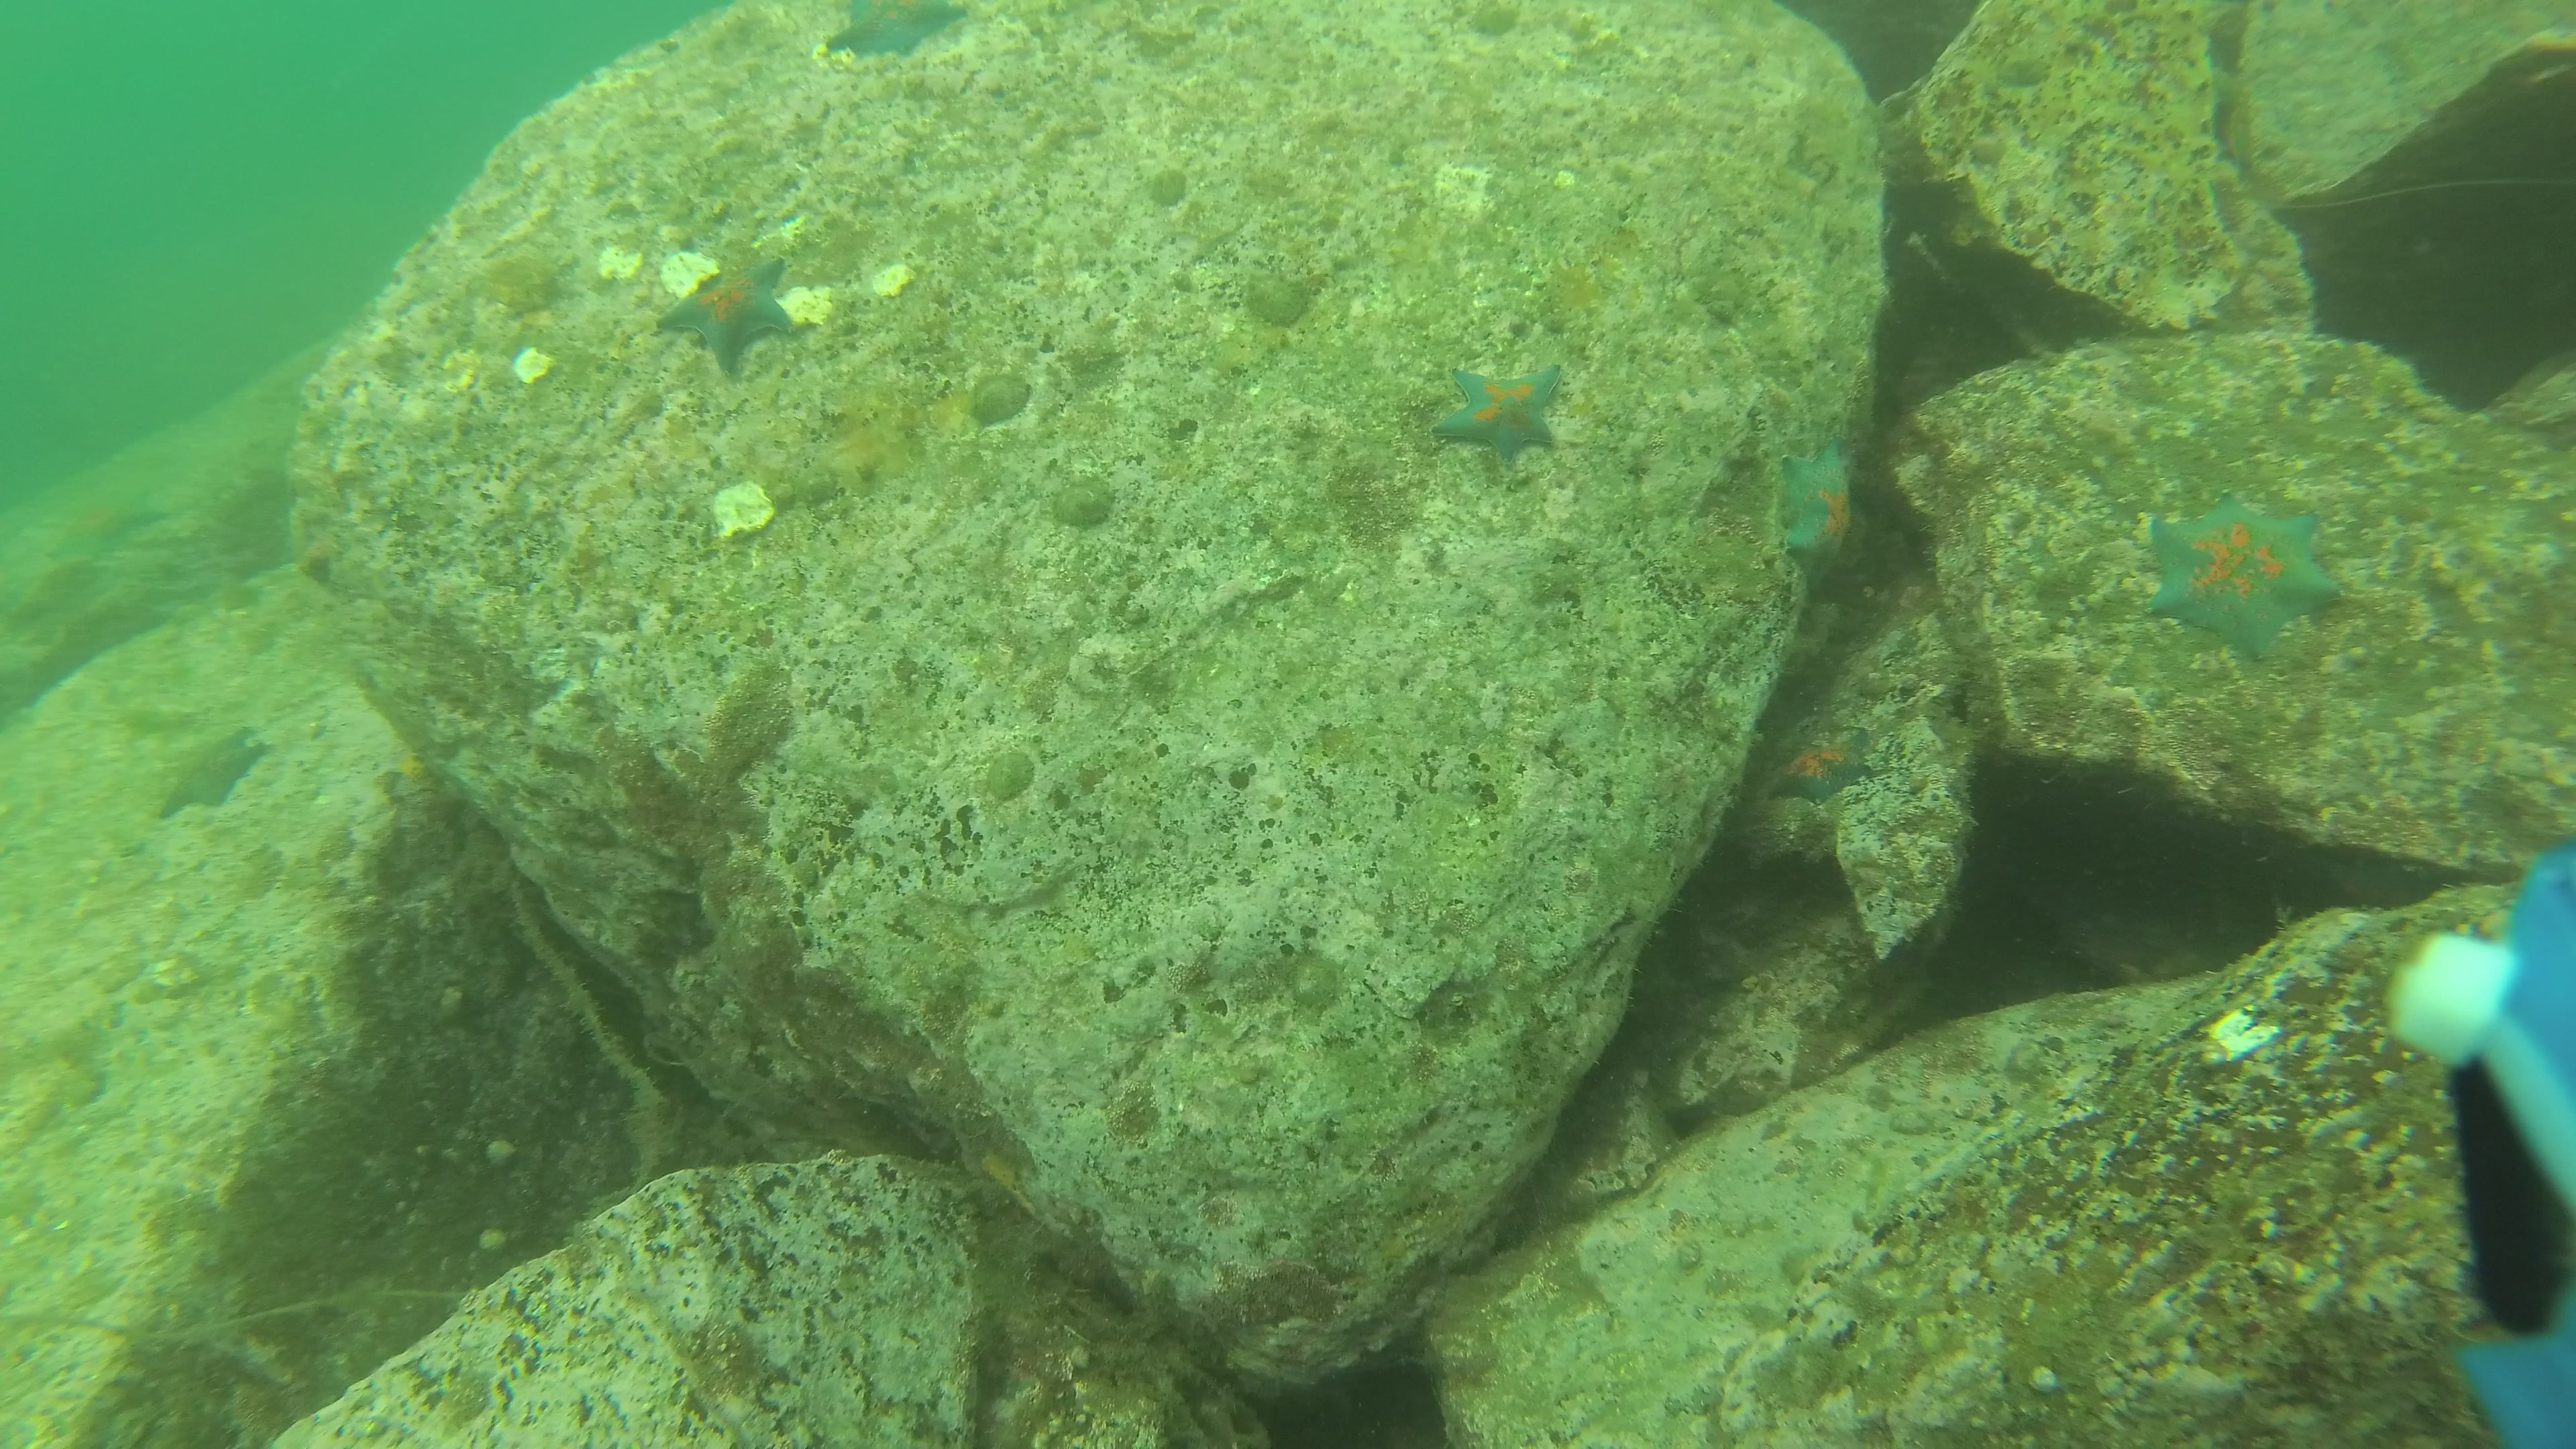starfish: (2141, 483, 2344, 667), (649, 249, 801, 375), (1424, 349, 1564, 471), (1767, 428, 1854, 602), (143, 717, 274, 823), (37, 483, 175, 563), (1766, 727, 1875, 810), (828, 4, 977, 64)
